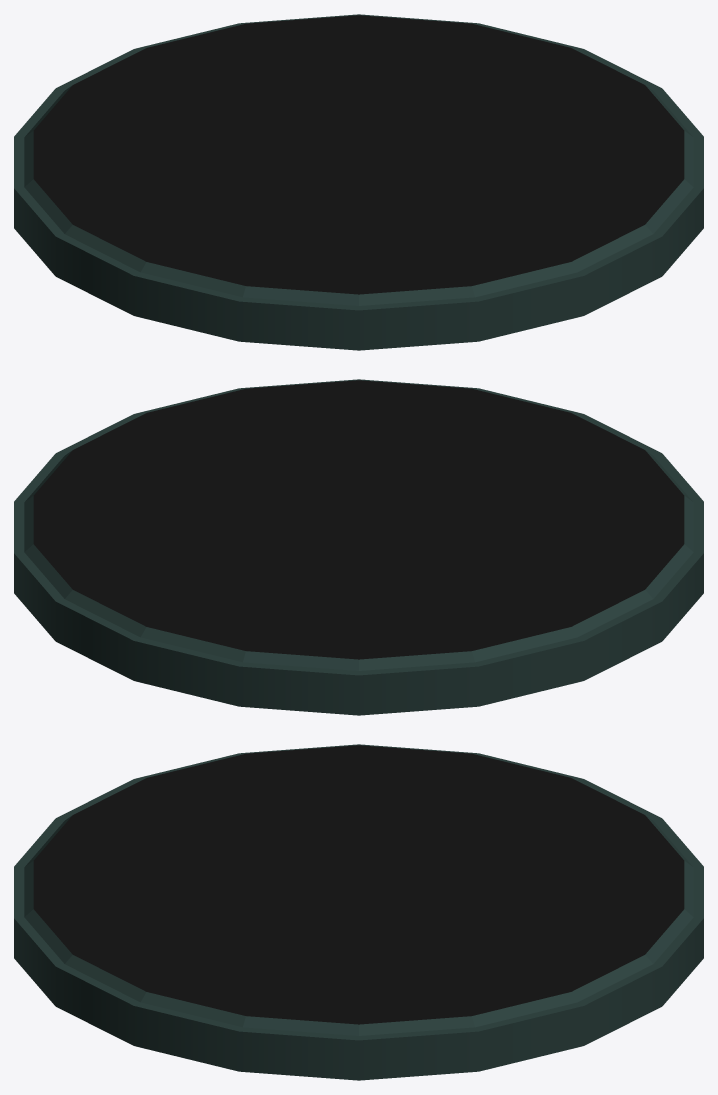
The model's file is cylindre au sol.FBX.
3 views of the same model, one above another, from view 1: azimuth 30°, elevation 25°; view 2: azimuth 150°, elevation 25°; view 3: azimuth 270°, elevation 25° (orthographic).
Visible parts, largest first — view 1: Cylindre au sol; view 2: Cylindre au sol; view 3: Cylindre au sol.
Part boxes in pixels (x1,y1,x2,y2): Cylindre au sol: (14,14,703,350); Cylindre au sol: (14,379,703,715); Cylindre au sol: (14,744,703,1080).
Size of the model in its own units: 339 by 25.41 by 333.
